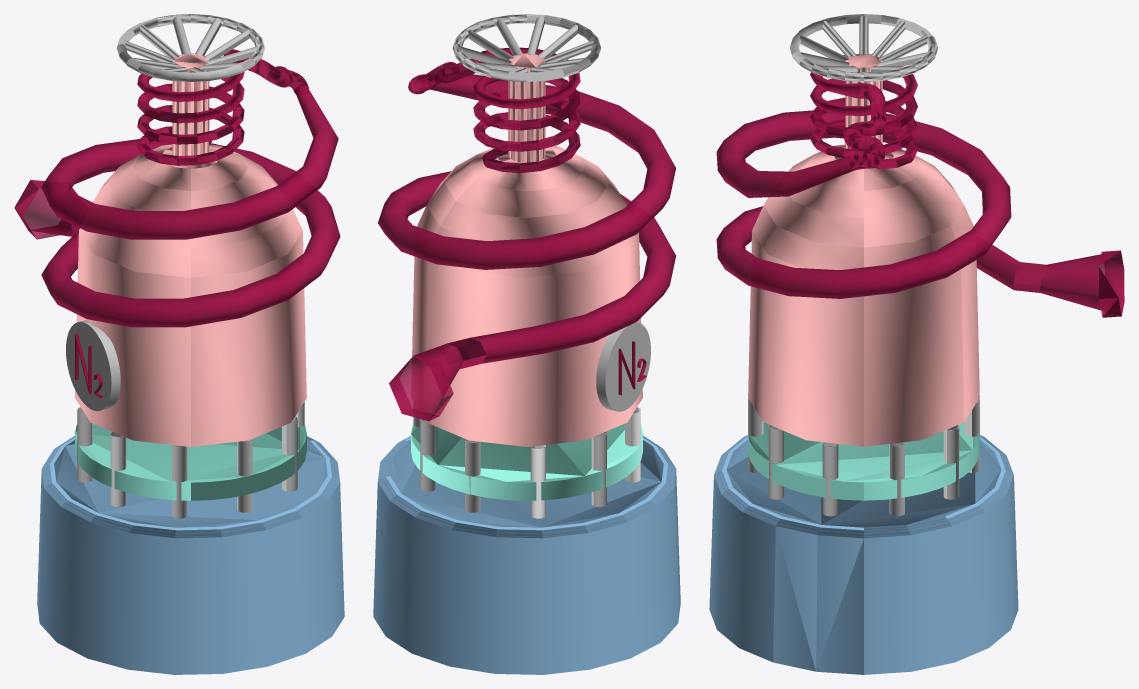
3 renders of one model, left to right at view 1: azimuth 30°, elevation 25°; view 2: azimuth 150°, elevation 25°; view 3: azimuth 270°, elevation 25°, orthographic.
Visible parts, largest first — view 1: Spring002, Cylinder024, Cylinder023, Line002; view 2: Spring002, Cylinder024, Cylinder023, Line002; view 3: Spring002, Cylinder024.
Part boxes in pixels (x1=…): Spring002: x1=14, y1=14, x2=340, y2=518; Cylinder024: x1=37, y1=435, x2=344, y2=674; Cylinder023: x1=66, y1=320, x2=120, y2=410; Line002: x1=75, y1=333, x2=102, y2=397; Spring002: x1=378, y1=14, x2=675, y2=518; Cylinder024: x1=373, y1=435, x2=680, y2=674; Cylinder023: x1=596, y1=322, x2=650, y2=411; Line002: x1=618, y1=341, x2=646, y2=395; Spring002: x1=716, y1=14, x2=1124, y2=516; Cylinder024: x1=709, y1=435, x2=1018, y2=674.
Bounding box in the file's own units: 800 × 1616 × 1075.
